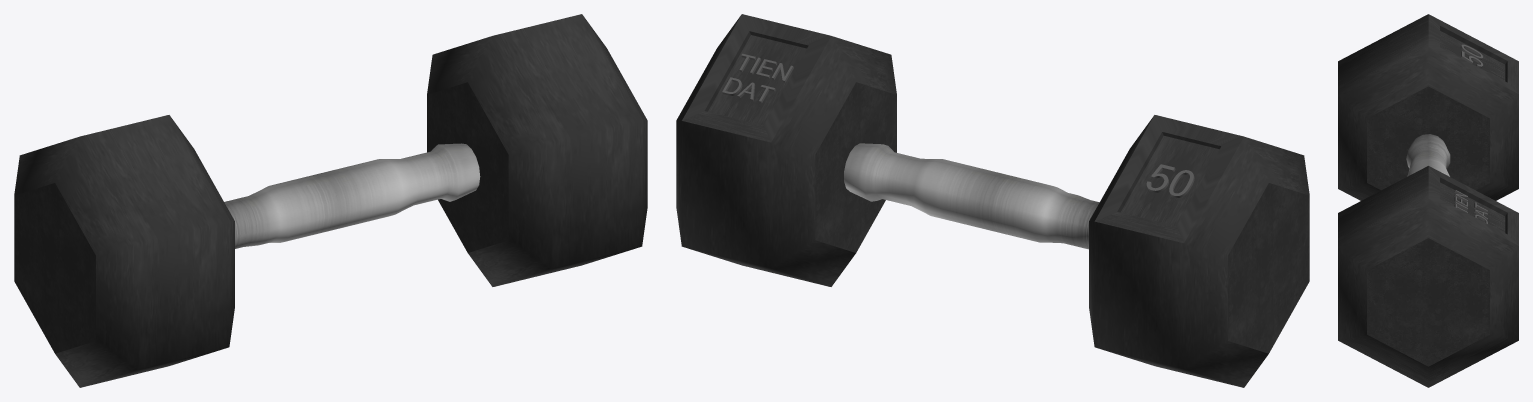
3 views of the same model, side by side, from view 1: azimuth 30°, elevation 25°; view 2: azimuth 150°, elevation 25°; view 3: azimuth 270°, elevation 25° (orthographic). The views are drawn at different scales.
Visible parts, largest first — view 1: Object_2, Object_4; view 2: Object_2, Object_4, Object_3; view 3: Object_2, Object_4, Object_3.
Part boxes in pixels (bbox=[...]): Object_2: bbox=[14, 14, 647, 387]; Object_4: bbox=[224, 143, 480, 248]; Object_2: bbox=[676, 14, 1309, 387]; Object_4: bbox=[844, 143, 1099, 249]; Object_3: bbox=[722, 53, 1194, 197]; Object_2: bbox=[1338, 14, 1518, 387]; Object_4: bbox=[1406, 134, 1450, 176]; Object_3: bbox=[1454, 44, 1487, 223].
Bounding box in the file's own units: 69.37 × 30.2 × 26.15.
2 materials, 2 textured.
